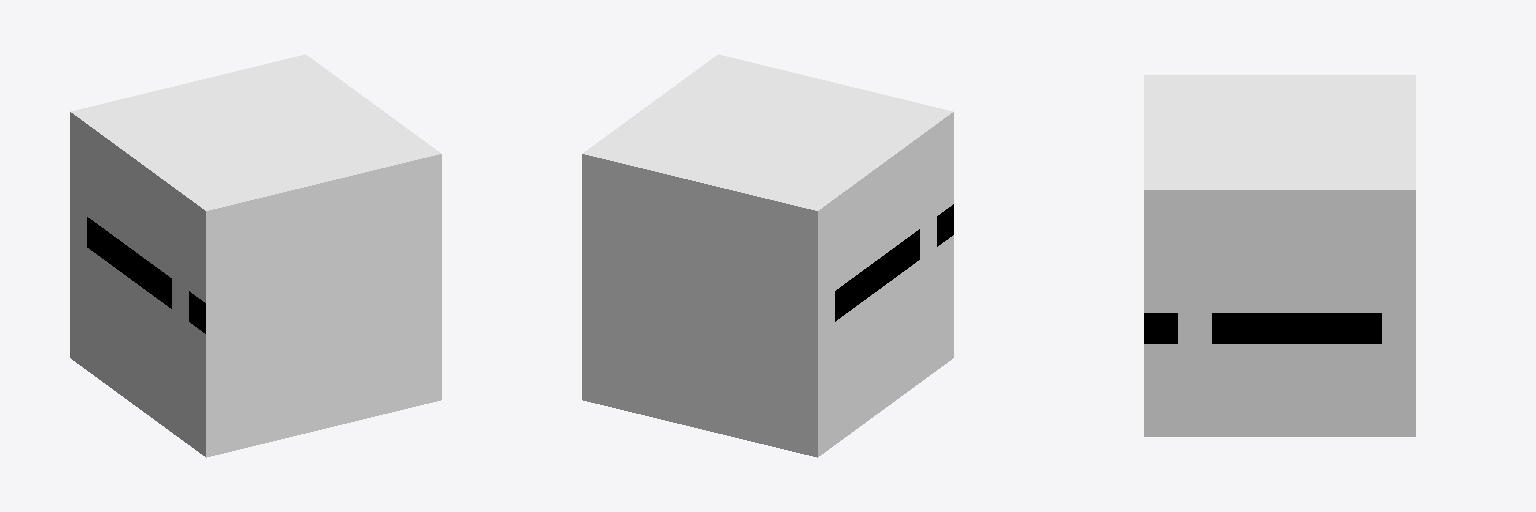
The model's file is cubeI.obj.
The picture shows the model from 3 angles: view 1: azimuth 30°, elevation 25°; view 2: azimuth 150°, elevation 25°; view 3: azimuth 270°, elevation 25°; orthographic projection.
Bounding box in the file's own units: 0.08 × 0.08 × 0.08.